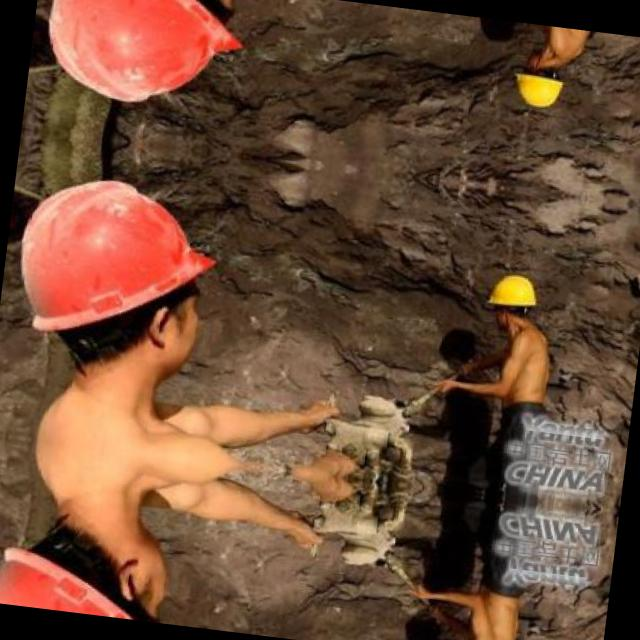helmet: (9, 160, 261, 438), (0, 458, 225, 625), (46, 0, 286, 131), (486, 264, 546, 338), (514, 44, 574, 118)
